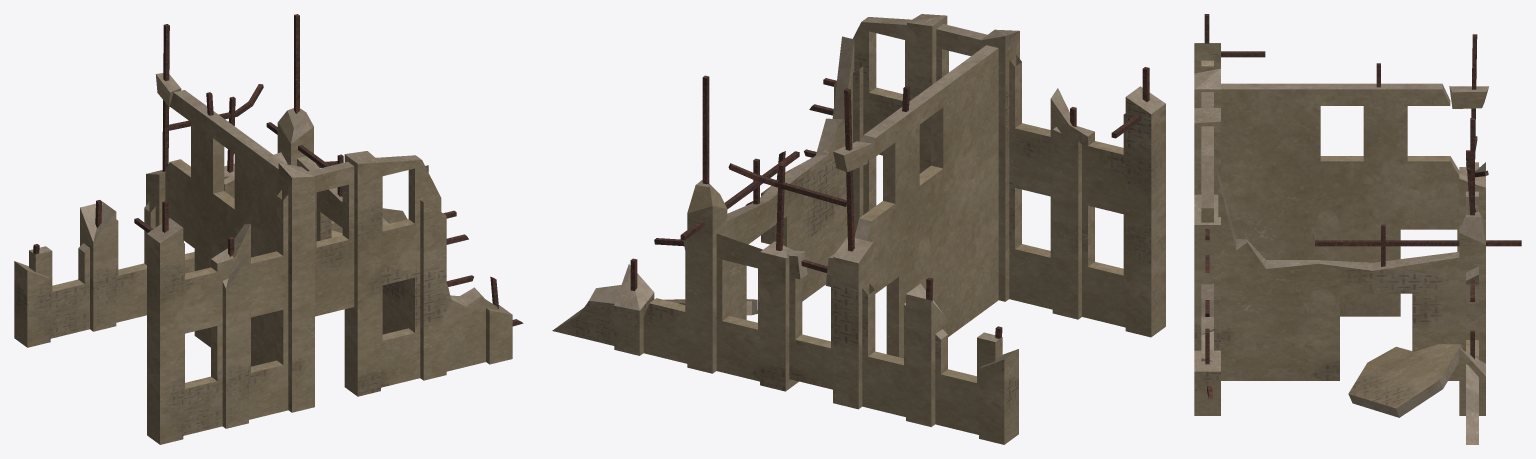
Rendered from SM_ruin_01 1.FBX.
The picture shows the model from 3 angles, left to right: view 1: azimuth 30°, elevation 25°; view 2: azimuth 150°, elevation 25°; view 3: azimuth 270°, elevation 25°; orthographic projection. The views are drawn at different scales.
Parts seen in each view (by area): view 1: SM_Ruin_01; view 2: SM_Ruin_01; view 3: SM_Ruin_01.
Boxes of the visible parts, <box> form: SM_Ruin_01: <box>14,14,523,444</box>; SM_Ruin_01: <box>552,14,1165,444</box>; SM_Ruin_01: <box>1194,14,1521,444</box>.
Size of the model in its own units: 567 by 391 by 377.
